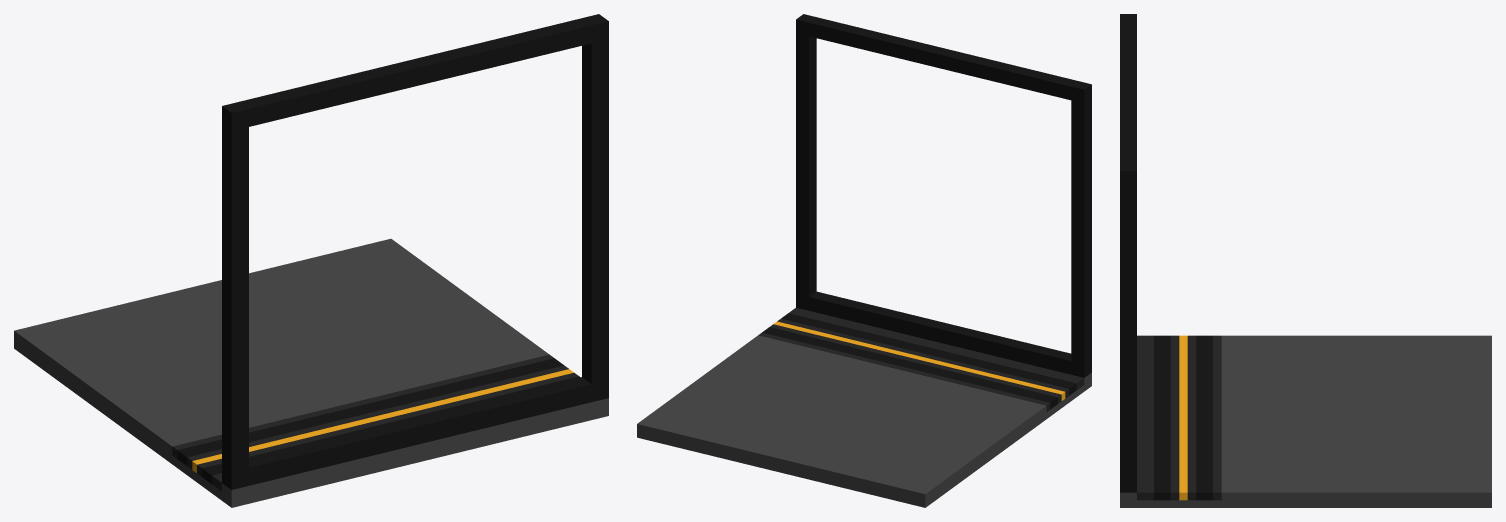
File: mesh_hanger_wall_grid_door_frame.obj
3 renders of one model, left to right at view 1: azimuth 30°, elevation 25°; view 2: azimuth 150°, elevation 25°; view 3: azimuth 270°, elevation 25°, orthographic. The views are drawn at different scales.
Size of the model in its own units: 4.4 by 4.4 by 4.4.
Materials: 1 (1 with a texture image).
